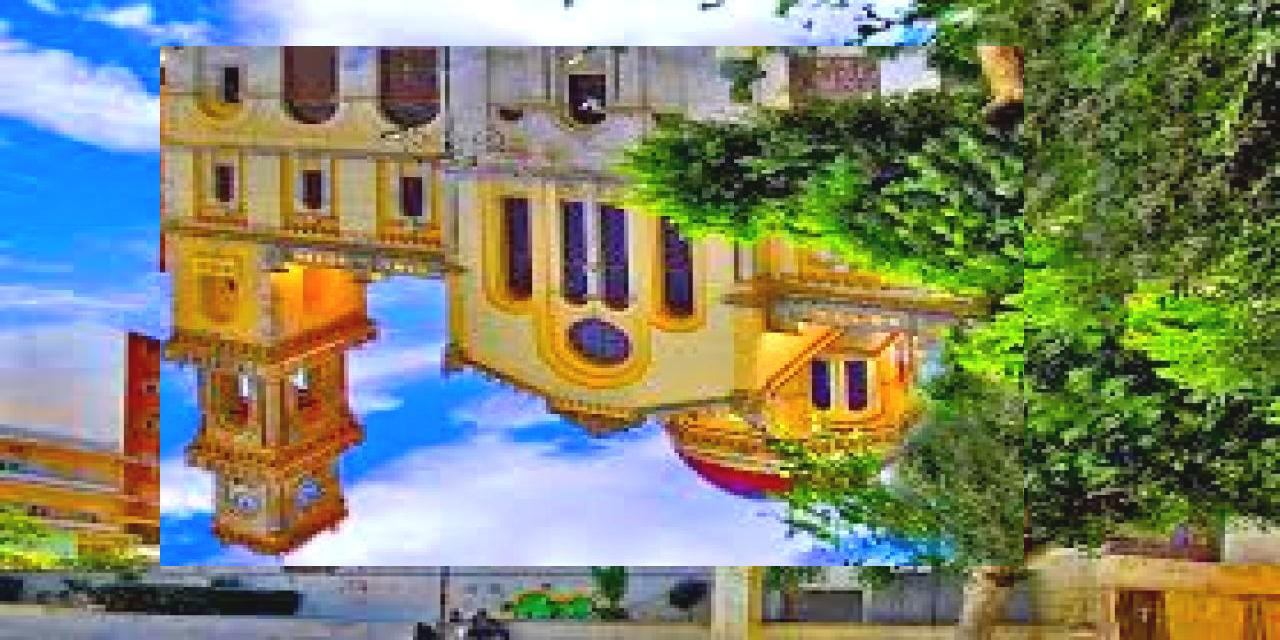Agios Minas: (161, 47, 1025, 567)
